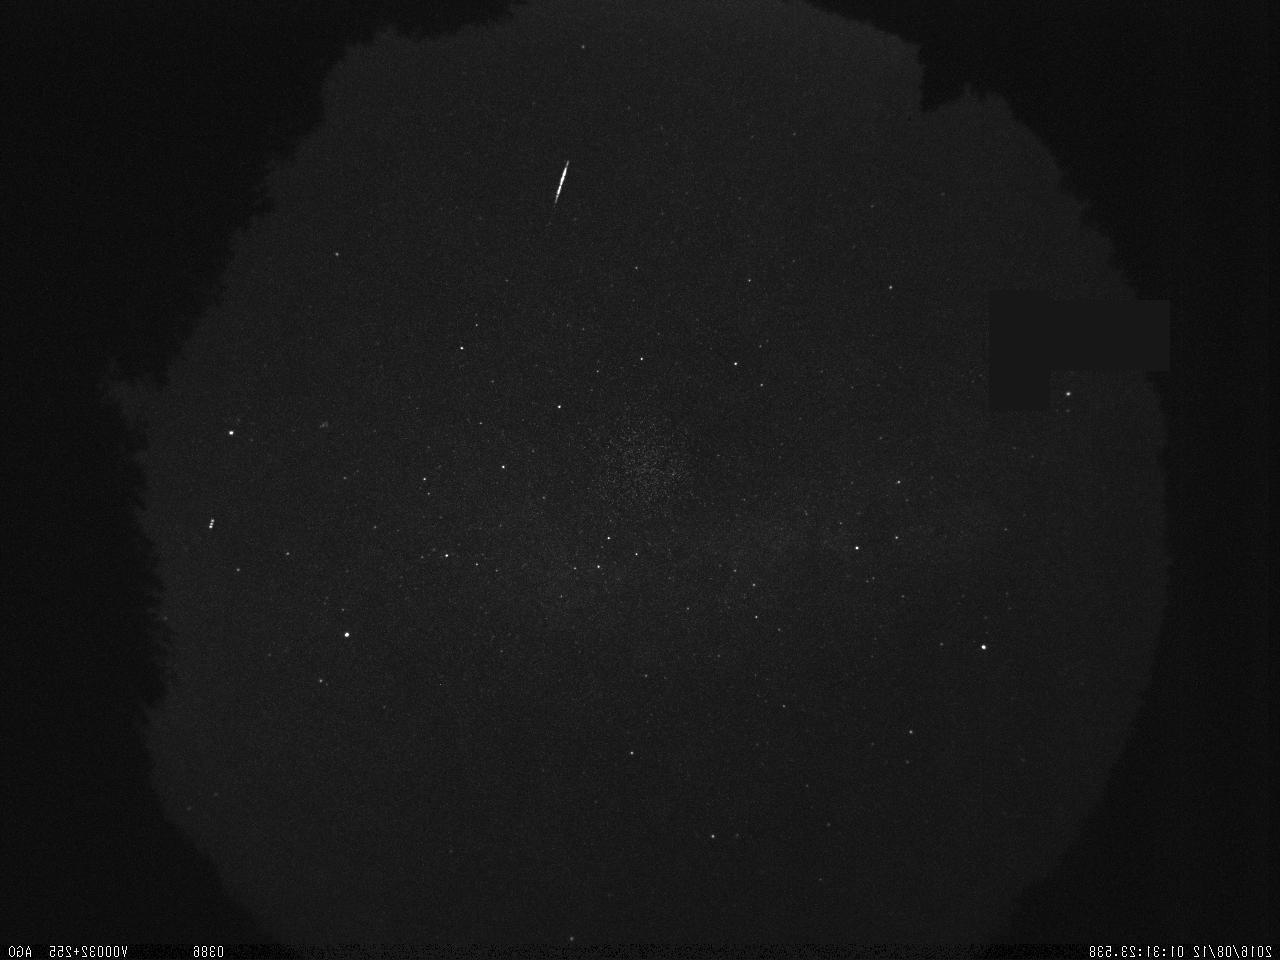meteor: (541, 155, 580, 210)
